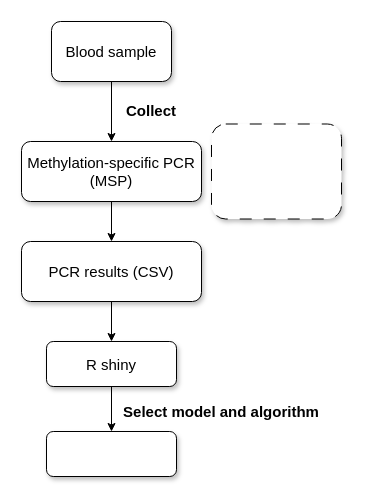
Image size: 365x501. Some labels were removed from this diagram. Each missing label, with the centre of its shape:
"4-CpGs model 5-CpGs model 6-CpGs model 12-CpGs model" belongs at [277,172].
"Prediction" belongs at [112,455].
